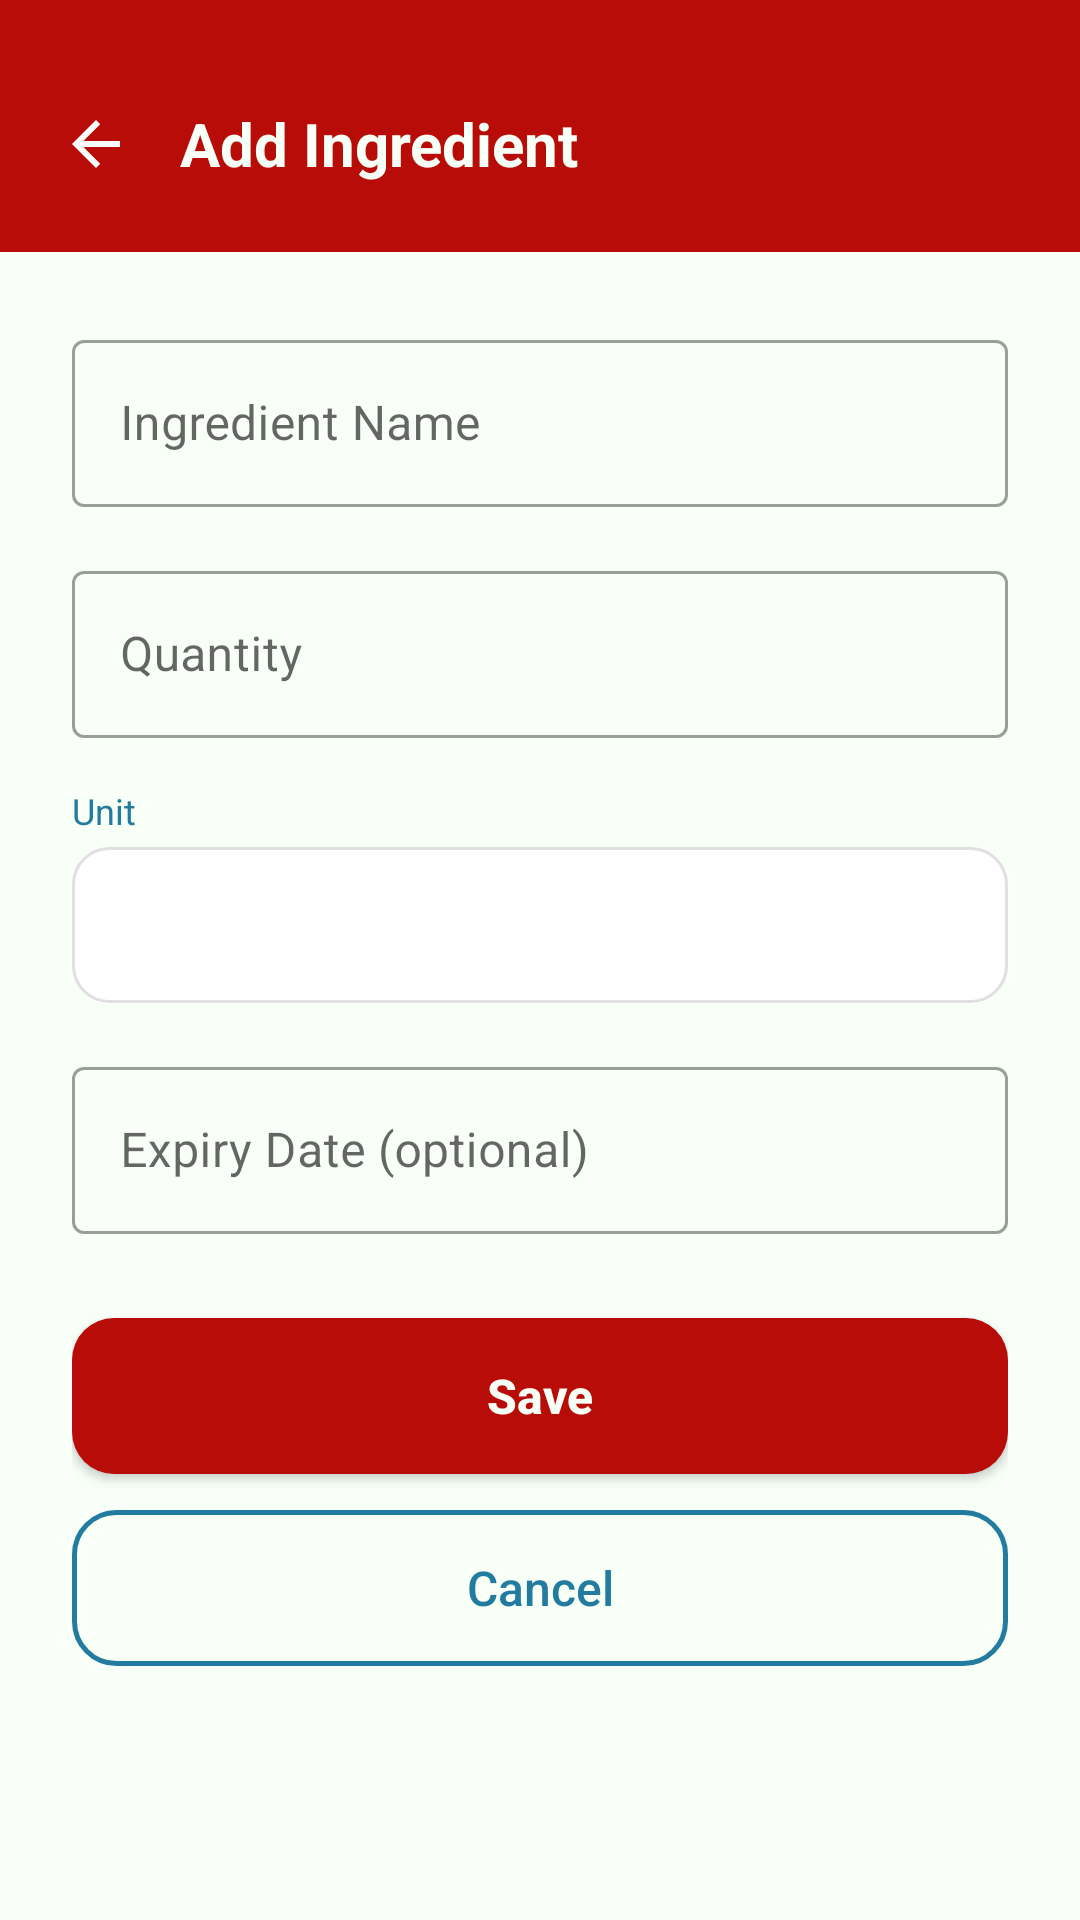

Icons on this 1080 × 1920 Android screen, each with its box as (left=x1, top=y1, right=x2, bottom=y2):
Back: (left=72, top=120, right=120, bottom=168)
